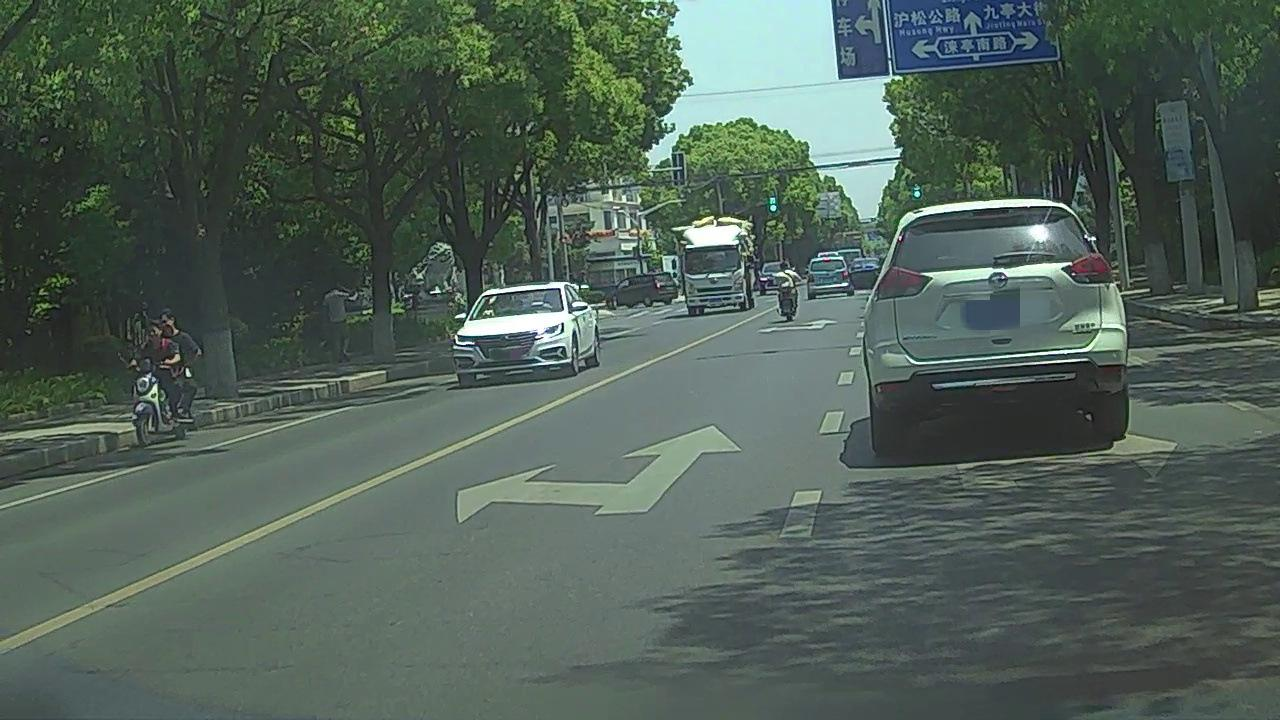traffic_light: (768, 188, 777, 214), (911, 177, 921, 200)
